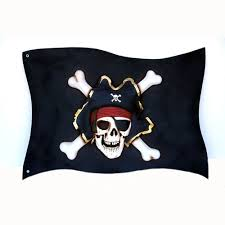Jolly Roger Flag: (19, 49, 212, 181)
